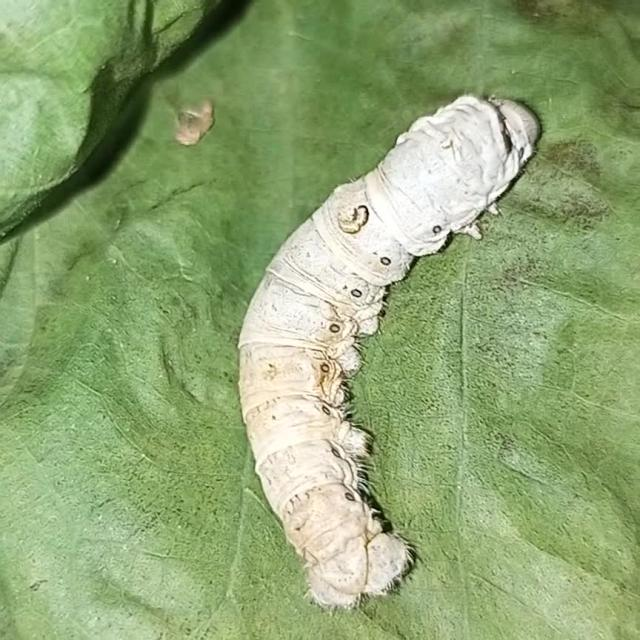Grasserie: (214, 68, 546, 616)
